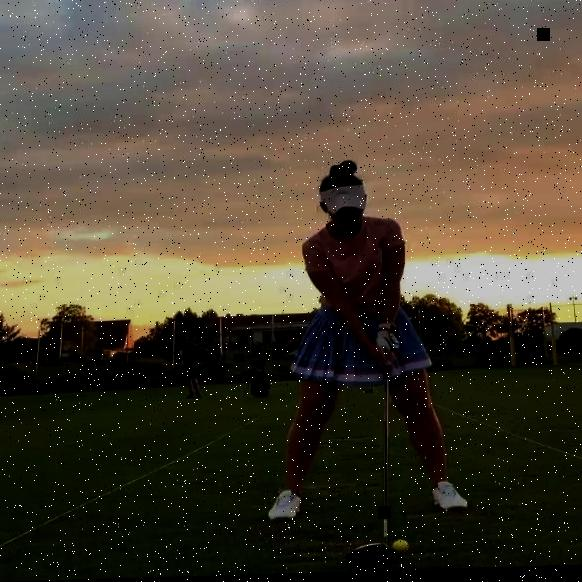ClubHead: (346, 543, 393, 568)
GolfBall: (393, 541, 409, 556)
